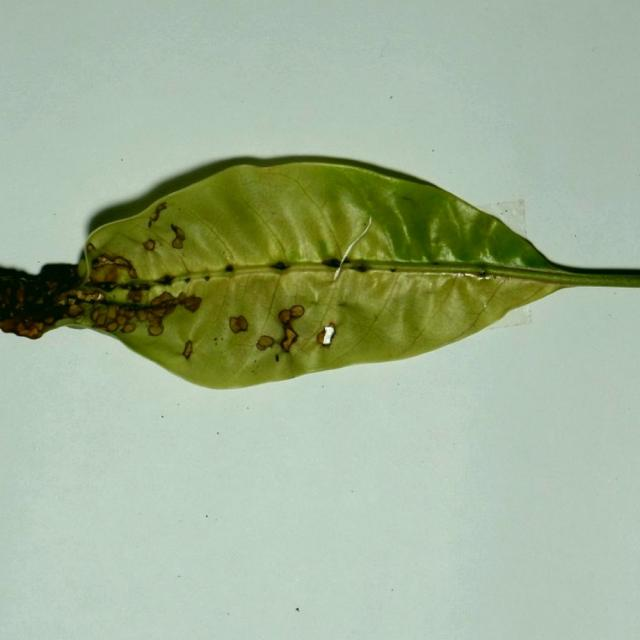Anthracnose: (137, 290, 197, 338), (88, 253, 137, 285), (89, 303, 137, 335), (276, 304, 303, 354), (0, 315, 41, 336), (147, 201, 167, 227), (317, 322, 336, 347), (149, 291, 175, 307), (170, 224, 186, 249), (56, 291, 82, 306), (228, 315, 248, 333), (256, 335, 275, 351), (0, 287, 12, 308), (92, 256, 112, 267), (155, 275, 175, 286), (289, 305, 305, 318), (279, 310, 293, 323), (90, 308, 102, 323), (16, 285, 25, 304), (142, 239, 156, 251), (45, 280, 59, 290), (90, 291, 104, 301), (354, 265, 369, 273), (86, 243, 95, 252), (327, 322, 336, 331), (147, 218, 154, 228), (275, 354, 279, 362)
Mango: (0, 156, 639, 392)
